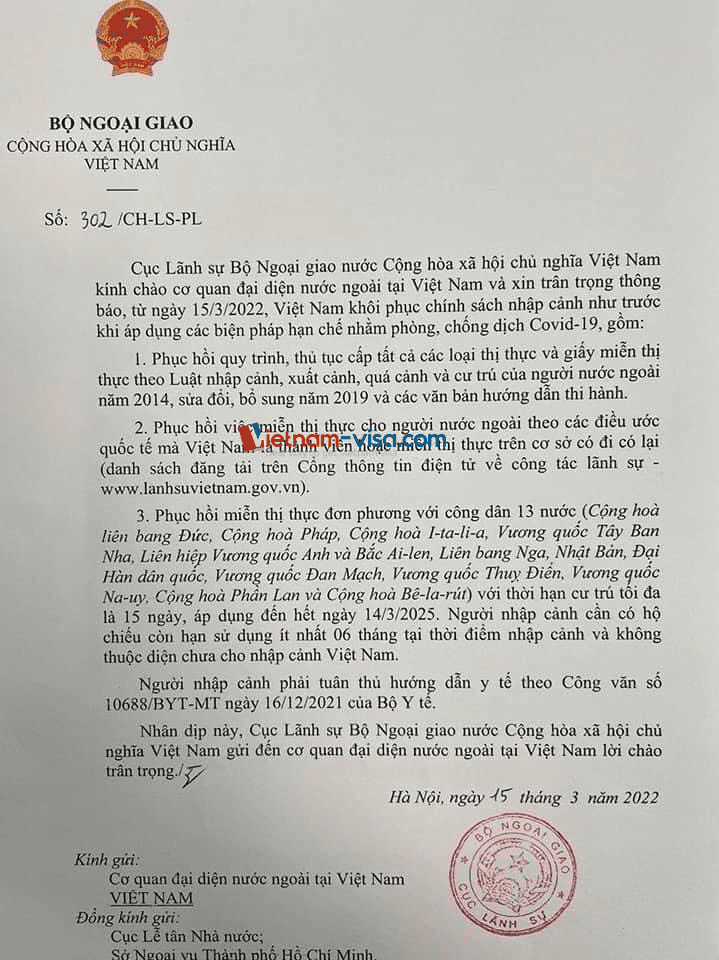Round chop: (444, 810, 586, 945)
